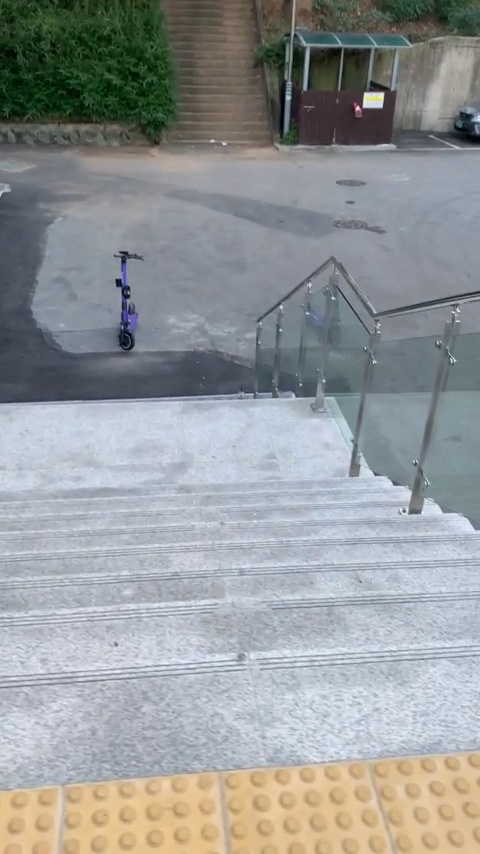beam: (105, 241, 155, 357)
